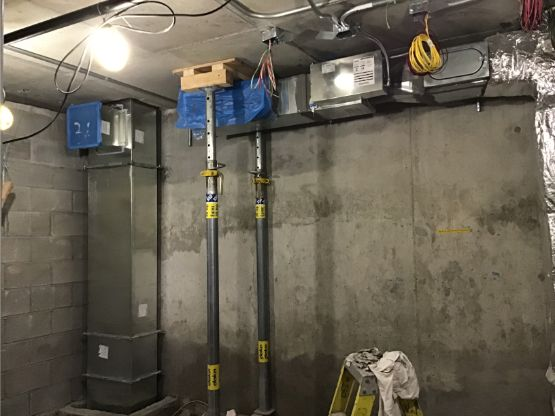Duct: (167, 24, 555, 146), (55, 93, 176, 415)
